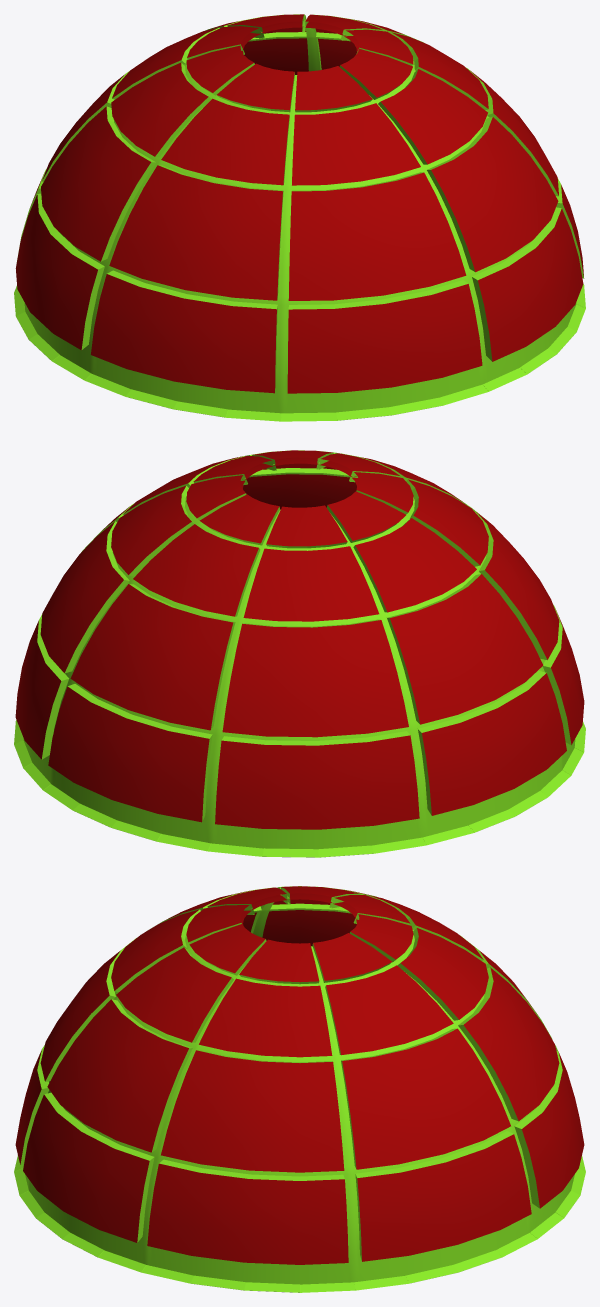
The model's file is Dome4.fbx.
3 views of the same model, one above another, from view 1: azimuth 30°, elevation 25°; view 2: azimuth 150°, elevation 25°; view 3: azimuth 270°, elevation 25° (orthographic).
Visible parts, largest first — view 1: pSphere6; view 2: pSphere6; view 3: pSphere6.
Boxes of the visible parts, x1,y1,x2,y2 form: pSphere6: (14, 14, 585, 421); pSphere6: (14, 450, 585, 857); pSphere6: (14, 886, 585, 1292).
Bounding box in the file's own units: 215 × 105 × 215.
